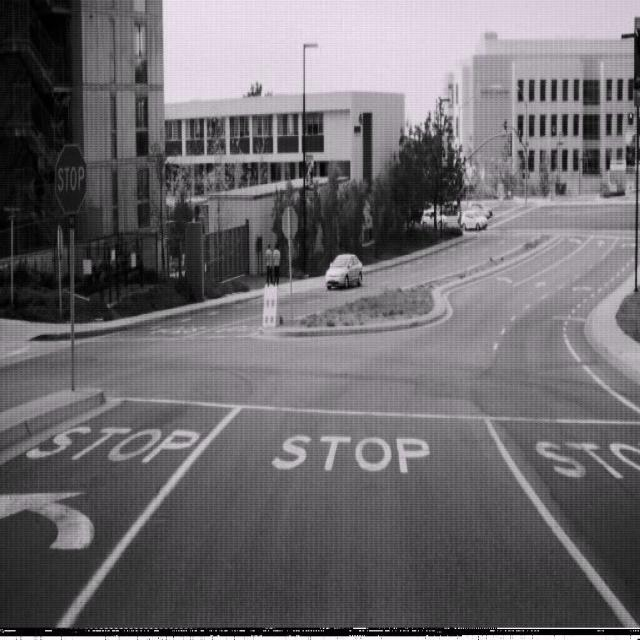stop_sign: (54, 142, 88, 216)
